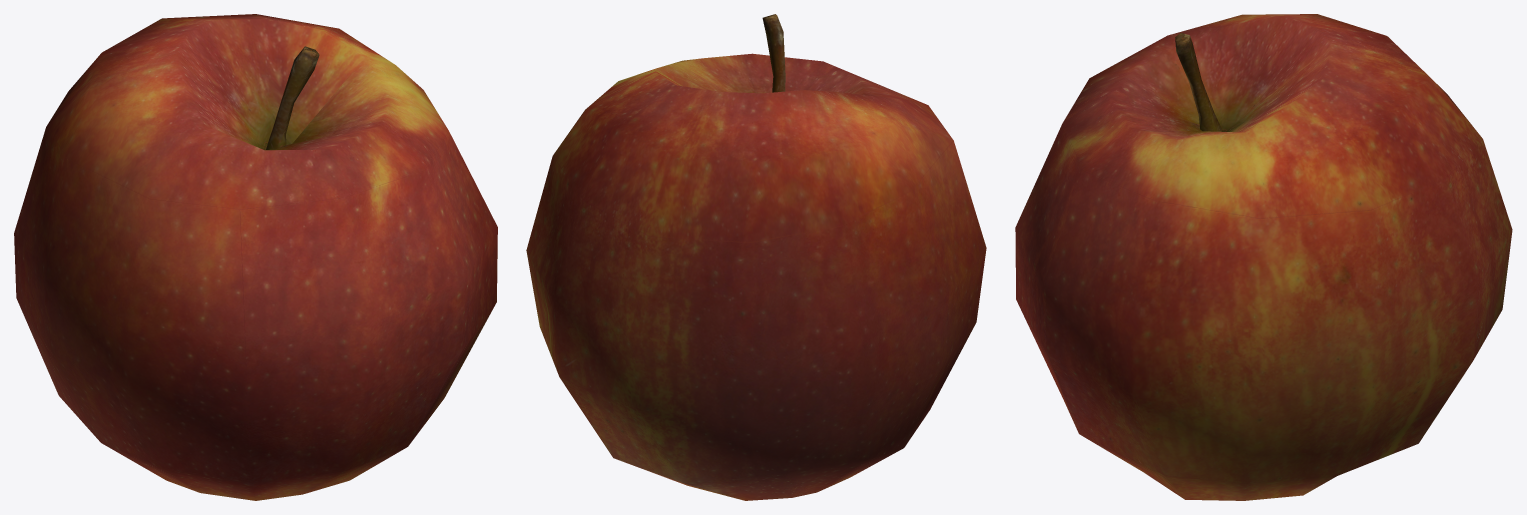
Rendered from low_polly_apple.glb.
3 renders of one model, left to right at view 1: azimuth 30°, elevation 25°; view 2: azimuth 150°, elevation 25°; view 3: azimuth 270°, elevation 25°, orthographic. The views are drawn at different scales.
Parts seen in each view (by area): view 1: apple__0; view 2: apple__0; view 3: apple__0.
Boxes of the visible parts, x1,y1,x2,y2 form: apple__0: (14,14,497,500); apple__0: (526,14,986,500); apple__0: (1015,14,1512,500).
Bounding box in the file's own units: 0.6244 × 0.6283 × 0.6535.
Materials: 1 (1 with a texture image).
